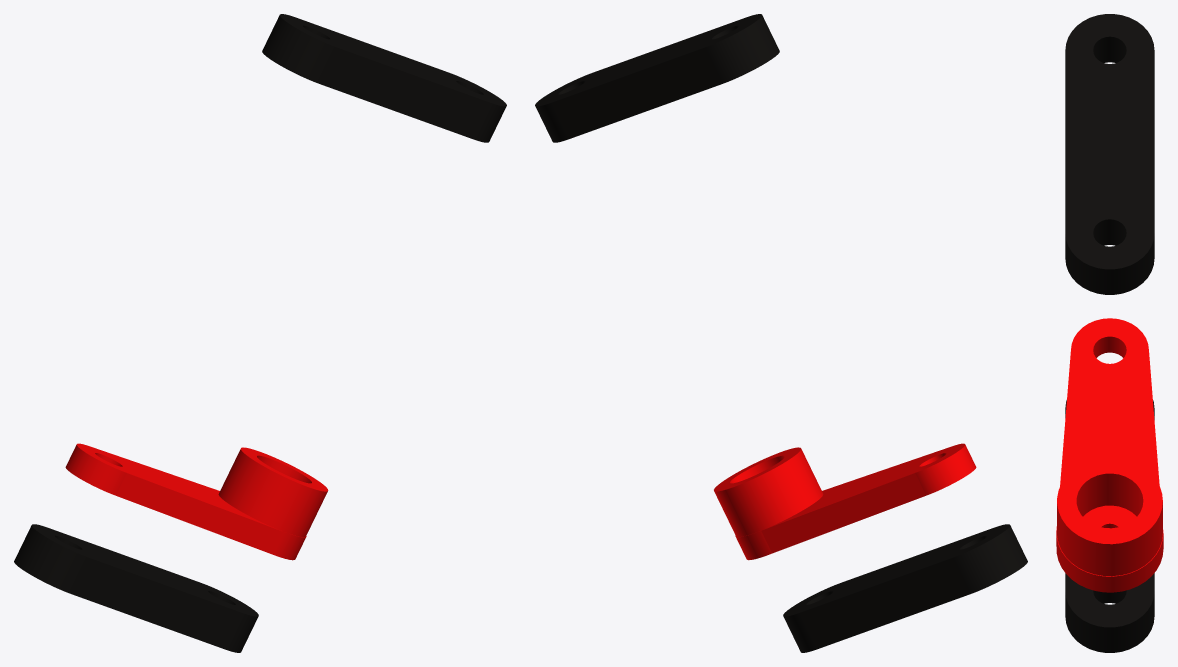
The model's file is servo_arm.obj.
3 renders of one model, left to right at view 1: azimuth 30°, elevation 25°; view 2: azimuth 150°, elevation 25°; view 3: azimuth 270°, elevation 25°, orthographic. The views are drawn at different scales.
Parts seen in each view (by area): view 1: servo_arm_v5_sim; view 2: servo_arm_v5_sim; view 3: servo_arm_v5_sim.
Boxes of the visible parts, box(x1,y1,x2,y2) form: servo_arm_v5_sim: box(14, 14, 506, 652); servo_arm_v5_sim: box(535, 14, 1027, 652); servo_arm_v5_sim: box(1056, 14, 1163, 652).
Bounding box in the file's own units: 0.0542 × 0.0659 × 0.0096.
